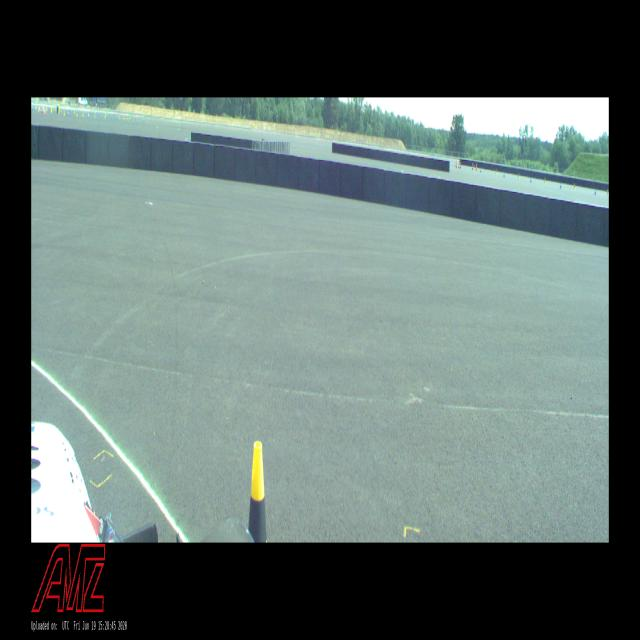yellow_cone: (248, 442, 268, 542)
